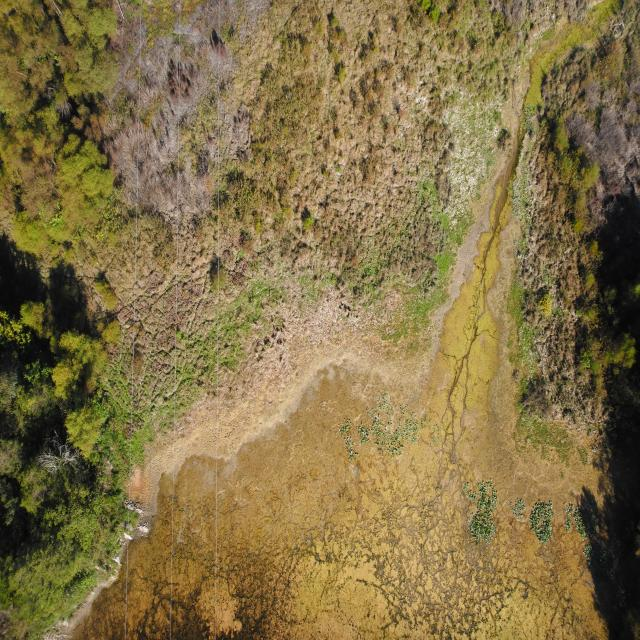Area of Interest: (7, 4, 121, 630)
